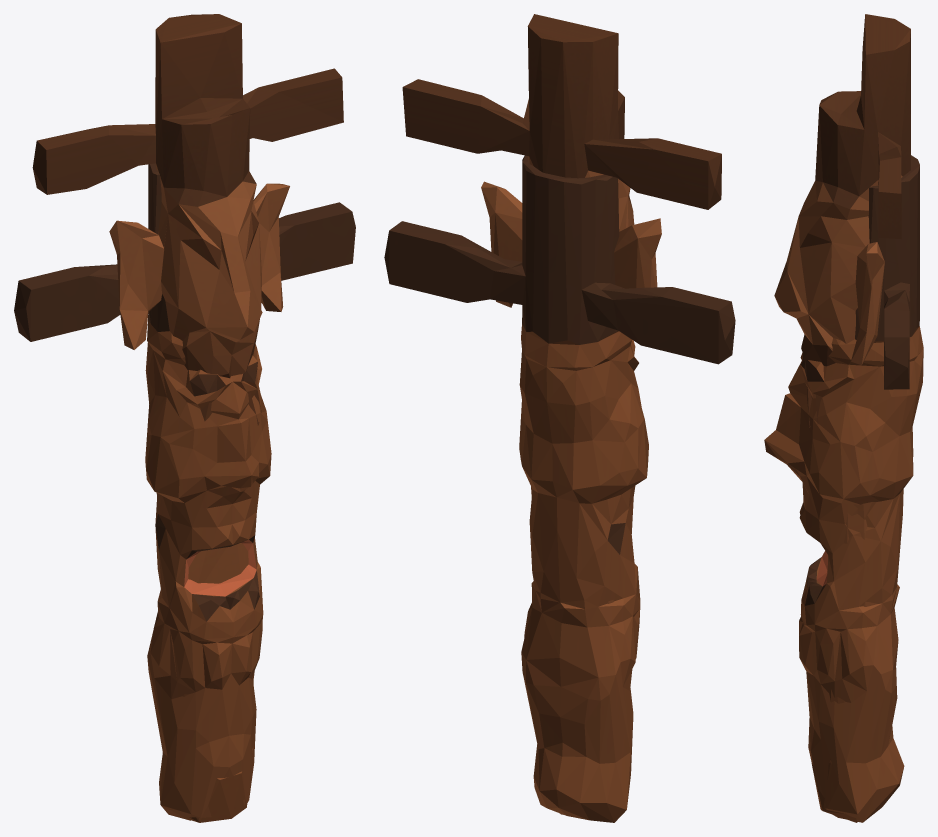
File: JangSeung.fbx
The picture shows the model from 3 angles, left to right: view 1: azimuth 30°, elevation 25°; view 2: azimuth 150°, elevation 25°; view 3: azimuth 270°, elevation 25°; orthographic projection. The views are drawn at different scales.
Parts seen in each view (by area): view 1: JangSeong_A, JangSeong_B; view 2: JangSeong_A, JangSeong_B; view 3: JangSeong_A, JangSeong_B.
Boxes of the visible parts, x1,y1,x2,y2 form: JangSeong_A: (14, 163, 355, 820); JangSeong_B: (32, 14, 343, 822); JangSeong_A: (384, 155, 735, 822); JangSeong_B: (402, 14, 721, 814); JangSeong_A: (764, 155, 923, 822); JangSeong_B: (774, 14, 910, 822).
Bounding box in the file's own units: 311 × 692 × 129.
1 material, 1 textured.
